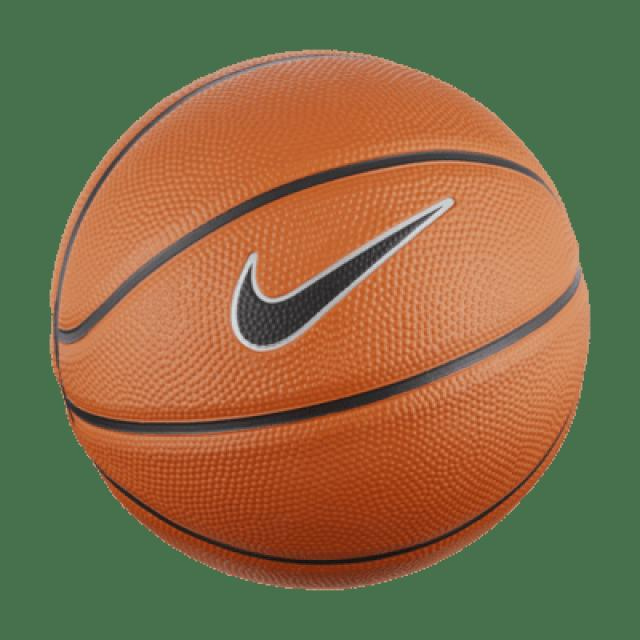non_orange: (41, 45, 592, 617)
